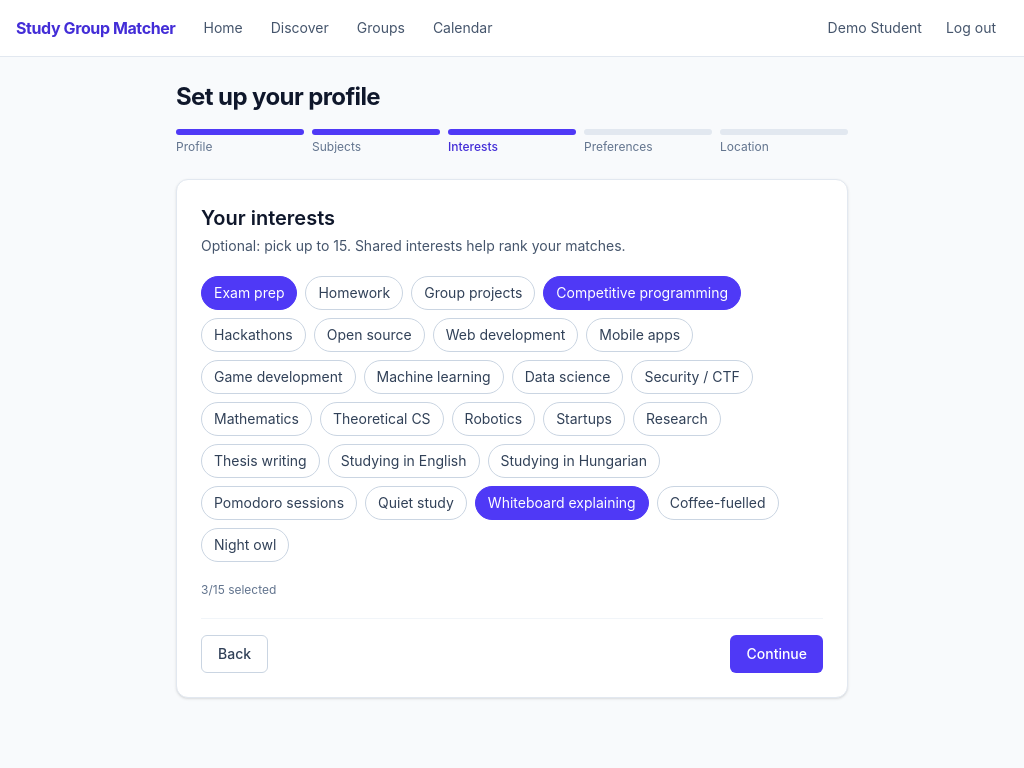
Test case: Onboarding: interests step › toggles interest chips and saves them as interestIds
Click the button "Exam prep".
click(249, 293)  # box [201, 276, 298, 310]
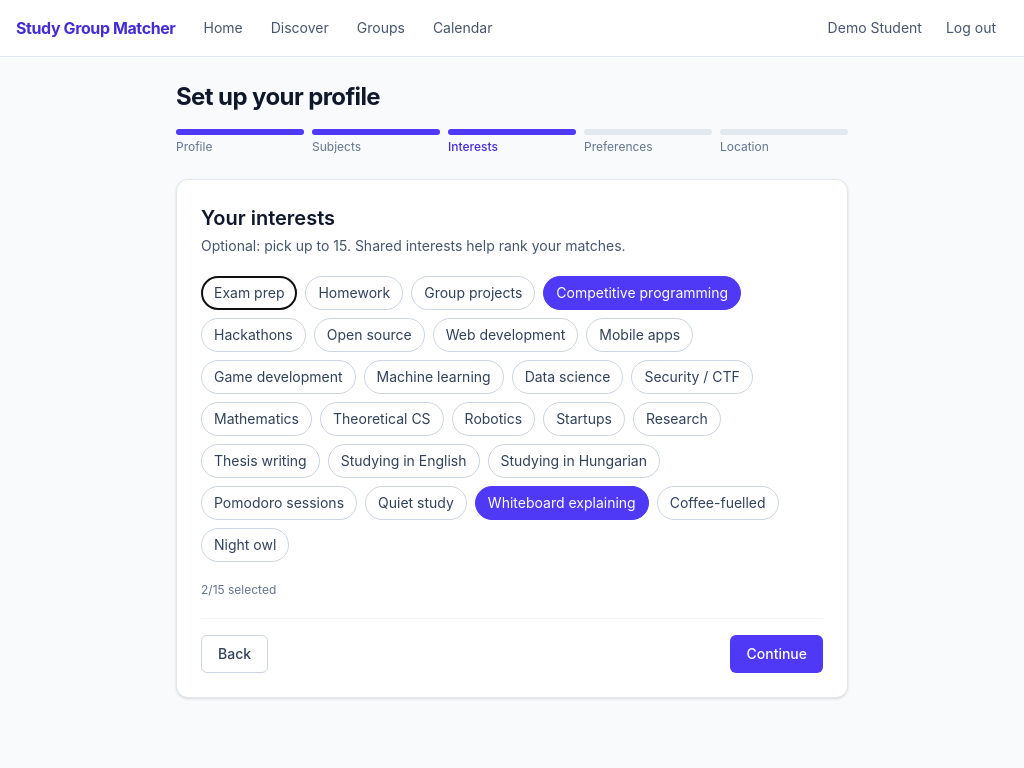
Click the button "Hackathons".
click(253, 335)  # box [201, 318, 306, 352]
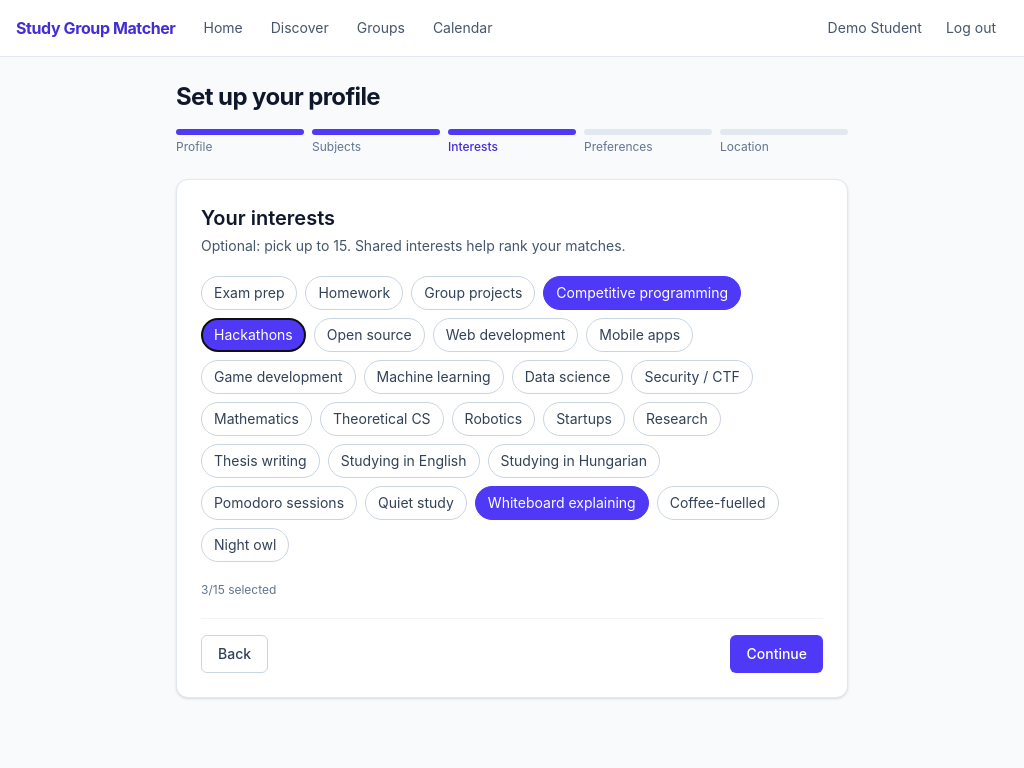
expect the text "3/15 selected" is shown: met, box [201, 582, 276, 597]
Click the button "Continue".
click(777, 654)  # box [730, 635, 823, 673]
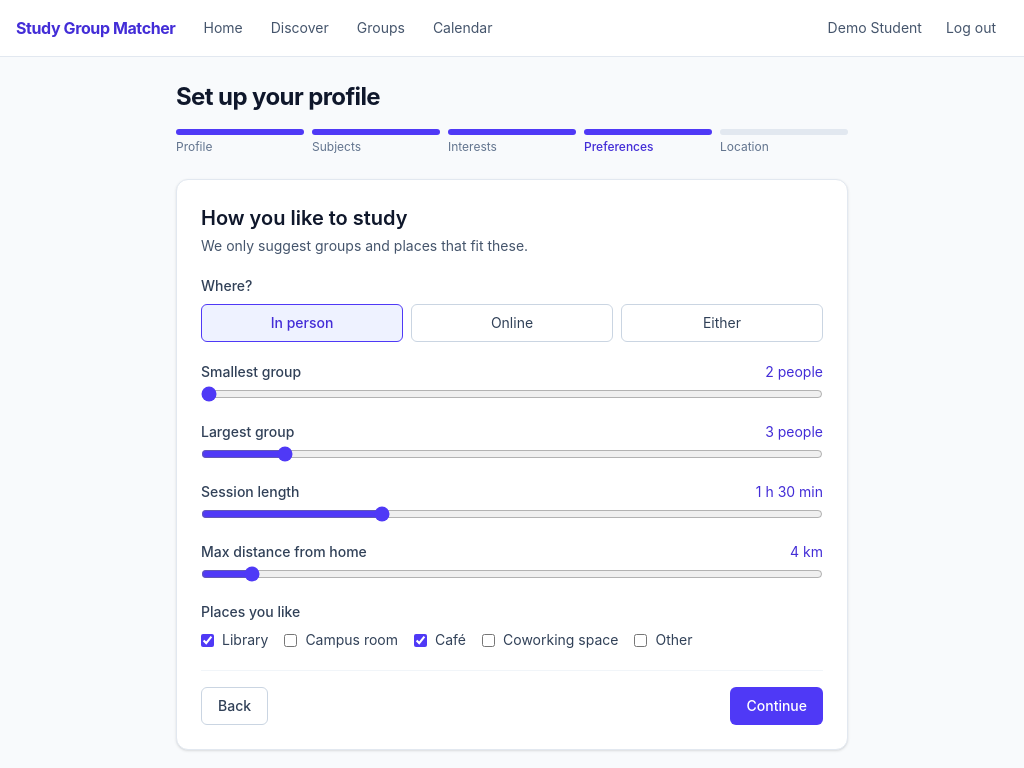
expect the heading "How you like to study" is shown: met, box [201, 206, 408, 230]
